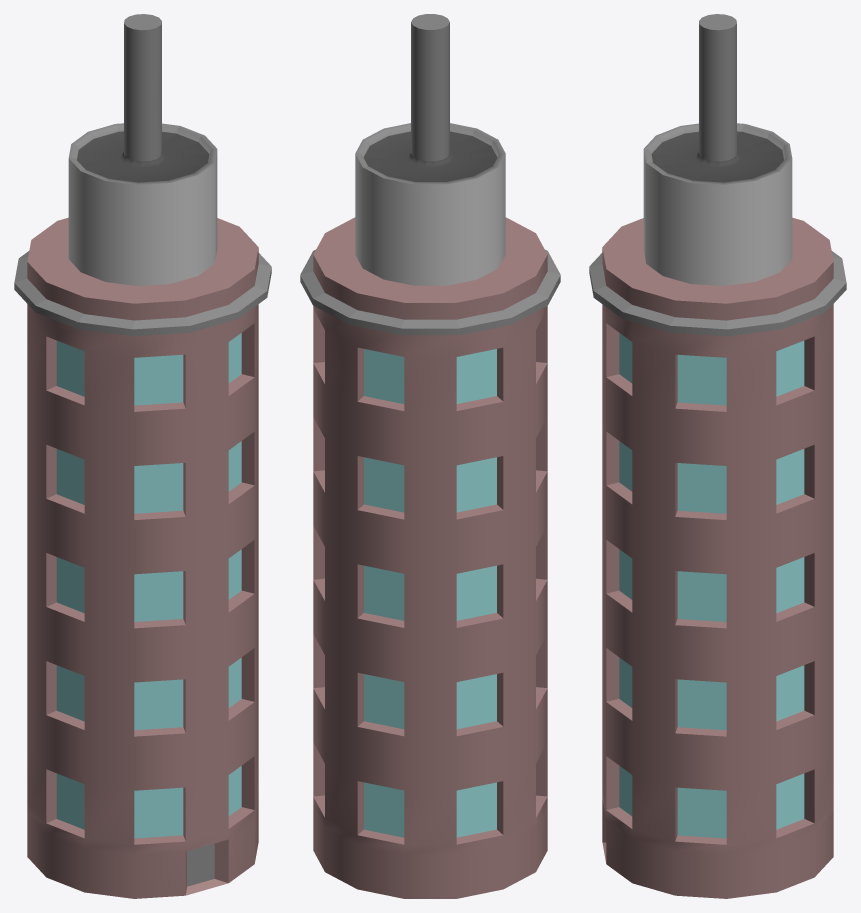
File: SkyScraper 6.fbx
3 renders of one model, left to right at view 1: azimuth 30°, elevation 25°; view 2: azimuth 150°, elevation 25°; view 3: azimuth 270°, elevation 25°, orthographic.
Visible parts, largest first — view 1: pCylinder1; view 2: pCylinder1; view 3: pCylinder1.
Boxes of the visible parts, x1,y1,x2,y2 form: pCylinder1: (14, 14, 271, 898); pCylinder1: (300, 14, 560, 898); pCylinder1: (589, 14, 846, 898).
Bounding box in the file's own units: 13.4 × 47.18 × 13.29.
